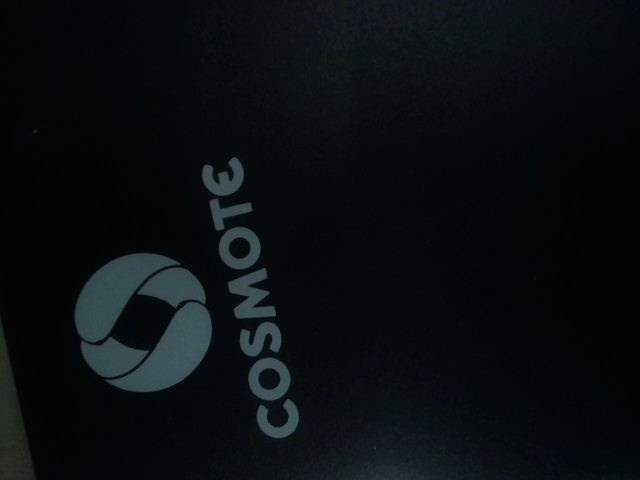AU_COSMOTE: (51, 161, 300, 440)
